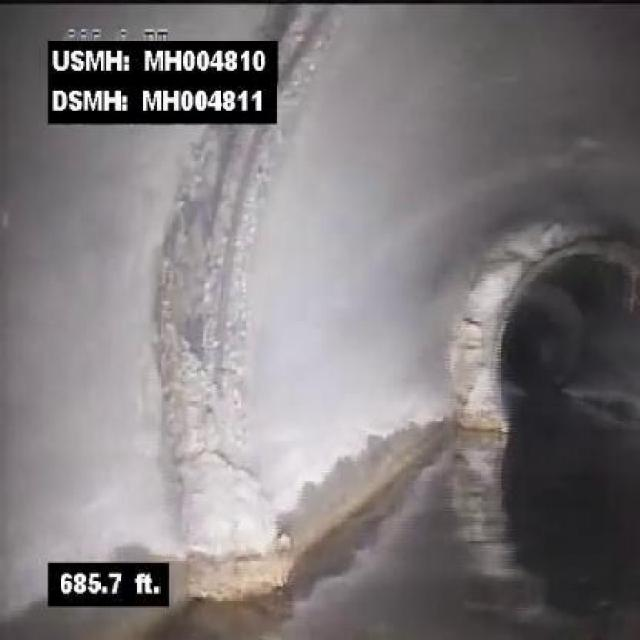Joint offset: (151, 155, 277, 616)
